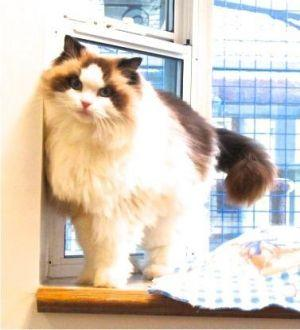ragdoll: (41, 30, 155, 145)
